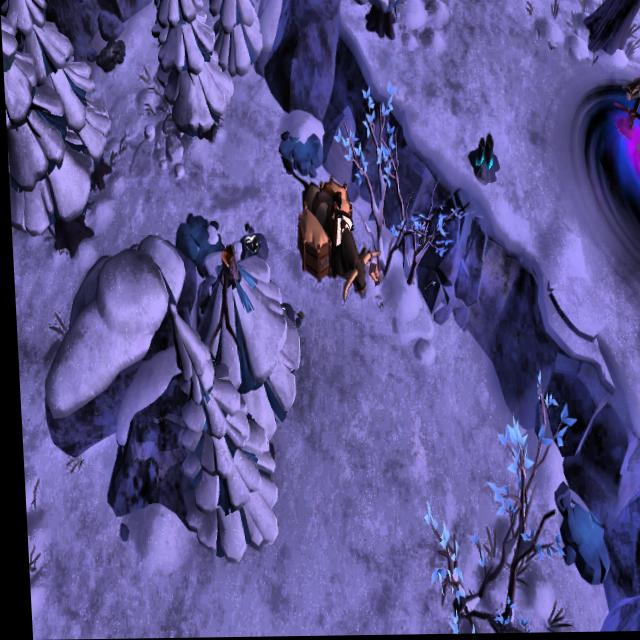ore_t4: (471, 135, 495, 173)
